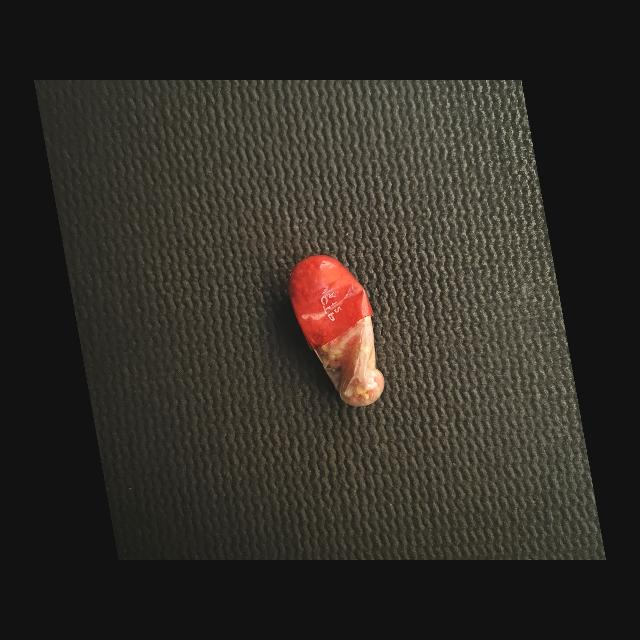Defective Capsule: (288, 255, 384, 407)
